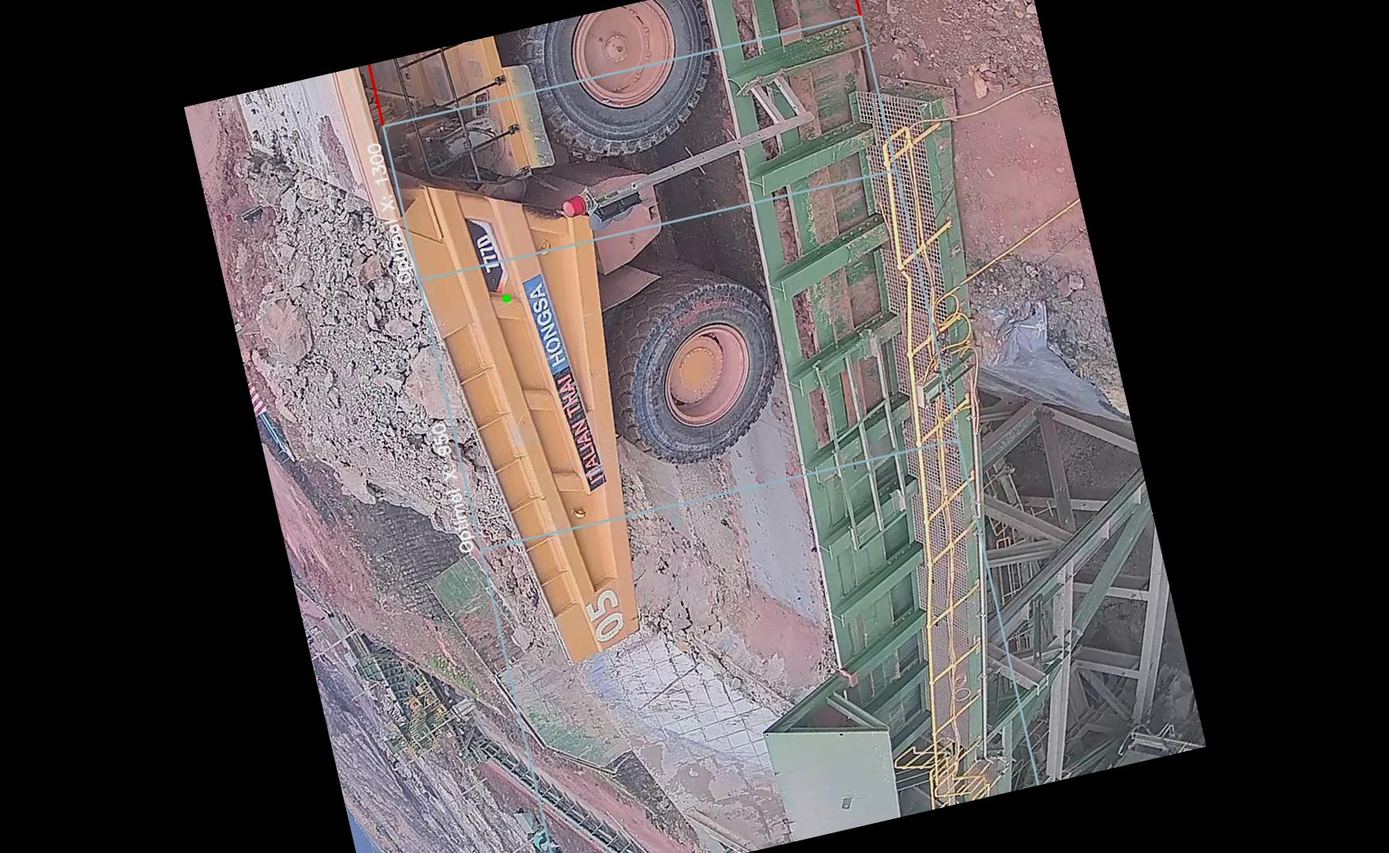company: (516, 259, 609, 500)
full_load: (224, 173, 491, 533)
mining_truck: (189, 0, 852, 733)
tail_number: (565, 577, 649, 655)
truck_size: (454, 201, 515, 307)
